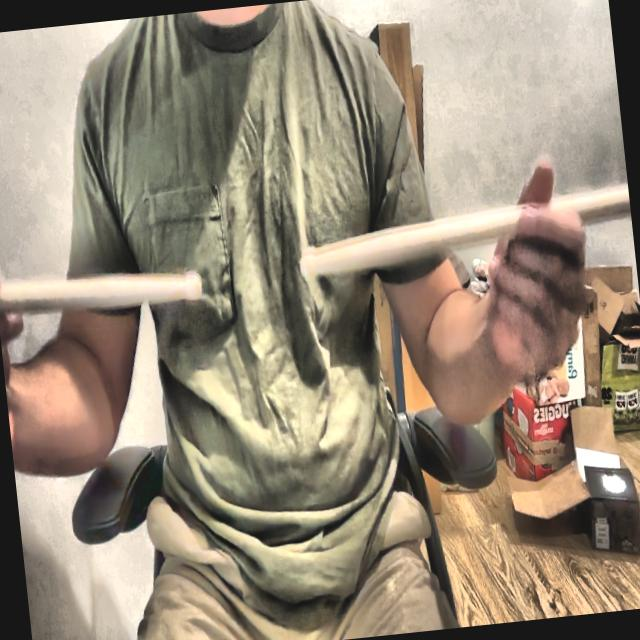Drumstick-Heads: (294, 235, 321, 286), (180, 267, 203, 303)
